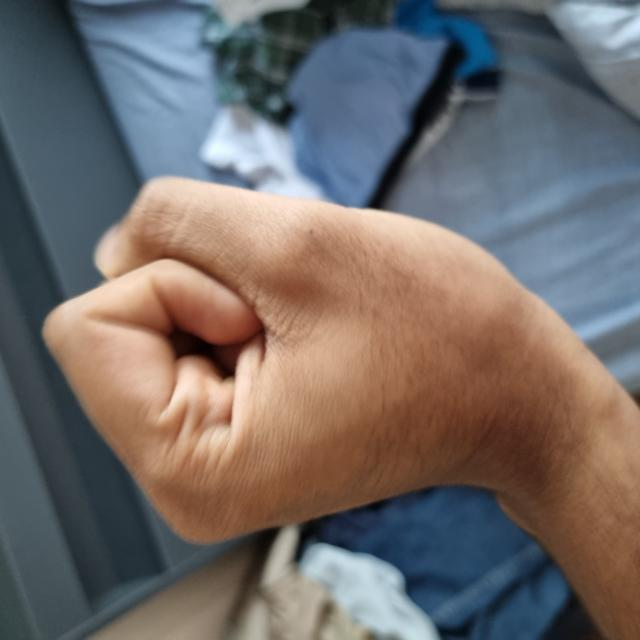Rock: (96, 47, 461, 578)
